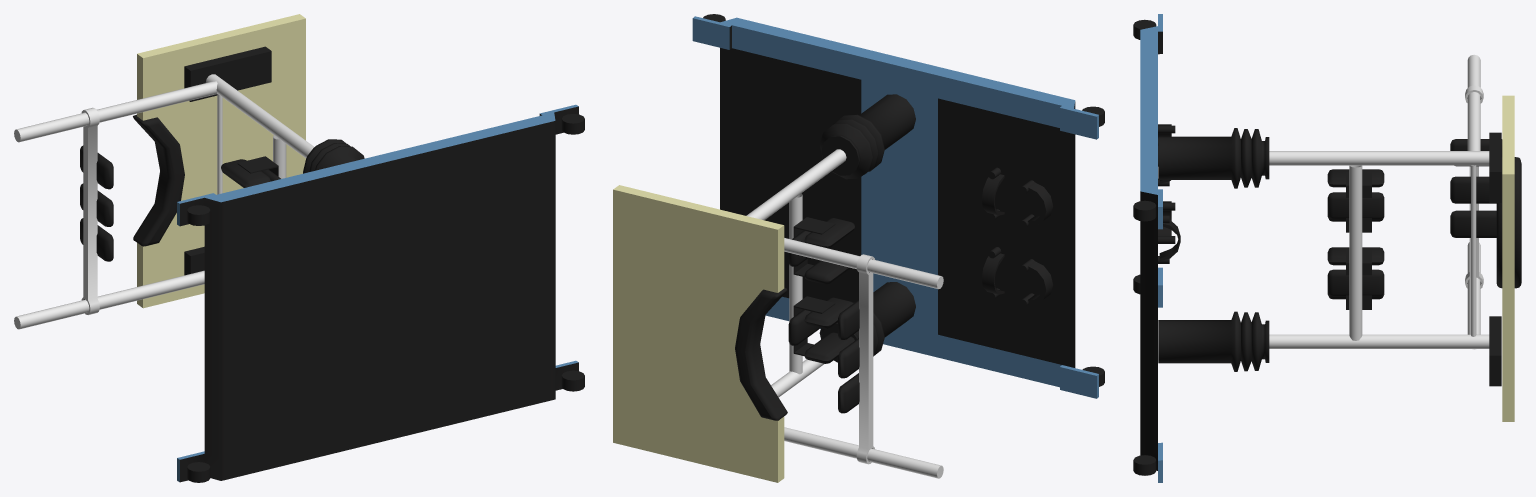
Rendered from КРВ.fbx.
3 renders of one model, left to right at view 1: azimuth 30°, elevation 25°; view 2: azimuth 150°, elevation 25°; view 3: azimuth 270°, elevation 25°, orthographic. The views are drawn at different scales.
Visible parts, largest first — view 1: Cube.001; view 2: Cube.001; view 3: Cube.001.
Boxes of the visible parts, bbox=[...] form: Cube.001: bbox=[14, 14, 584, 482]; Cube.001: bbox=[613, 14, 1104, 482]; Cube.001: bbox=[1133, 14, 1521, 482].
Size of the model in its own units: 118 by 78 by 99.4.
